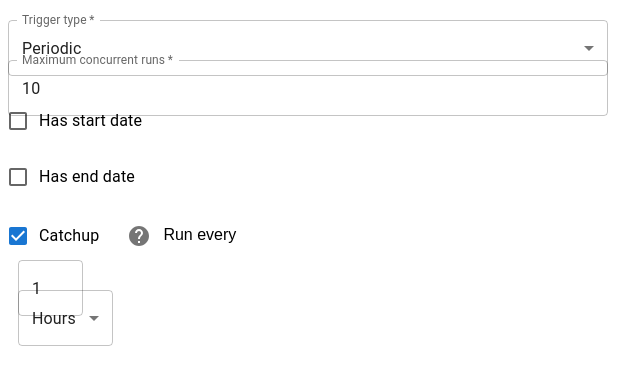
Test case: Trigger › interval trigger › Show invalid start date/time format message if date has wrong format.
Click the checkbox labelled "Has start date" at (74, 121), box [6,109,142,133]
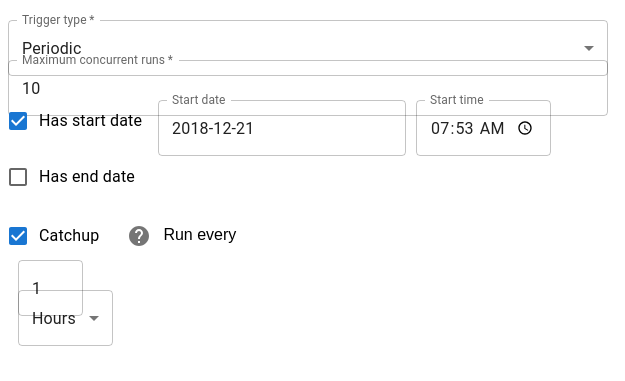
Replace the text in the field labelled "Start date" with "this_is_not_valid_date_format" at (282, 128), box [158,100,406,156]
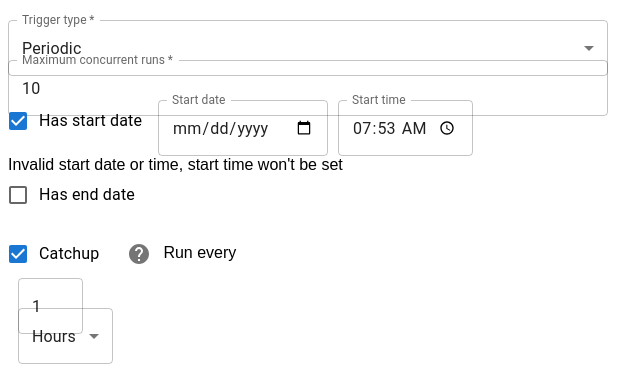
Now the text "Invalid start date or time, start time won't be set" is shown, box [8,156,343,173]
Type "2021-01-01" into the date field labelled "Start date" at (243, 128), box [158,100,328,156]
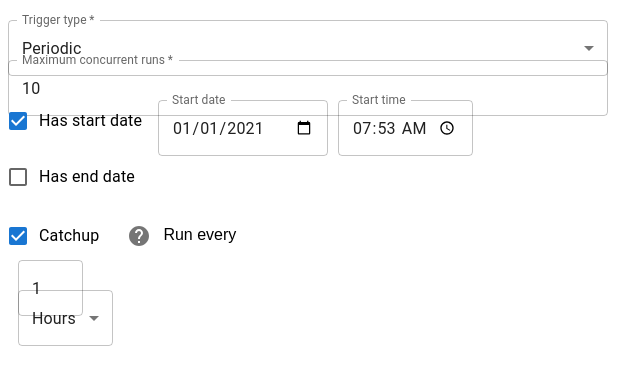
Now the text "Invalid start date or time, start time won't be set" is gone
